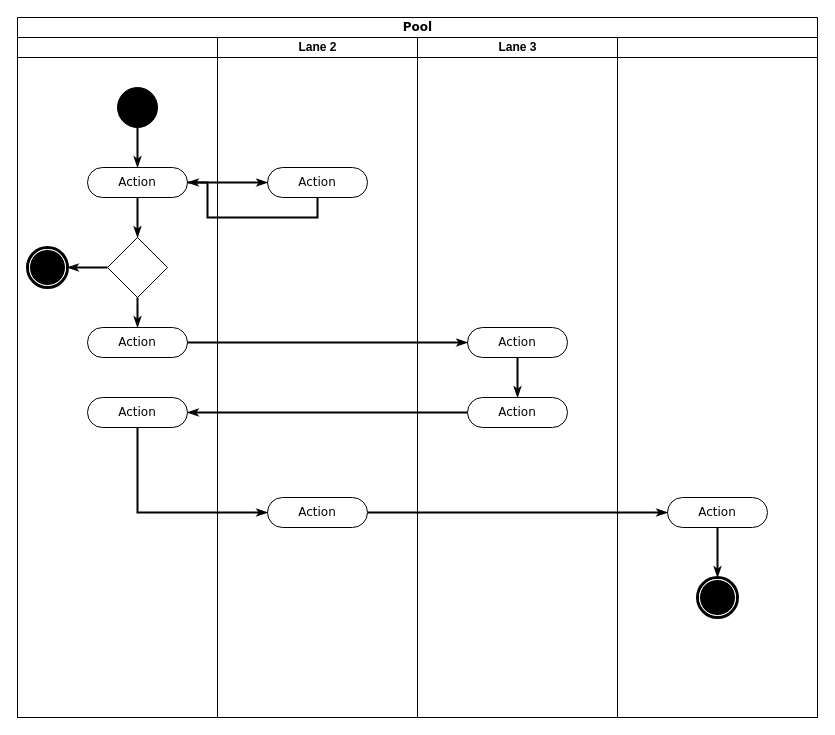
This 835x735 diagram has some shape labels left out. Each missing label, with the box of its shape:
Decision: (106, 236, 168, 298)
Lane 1: (16, 36, 218, 718)
Lane 4: (616, 36, 818, 718)
